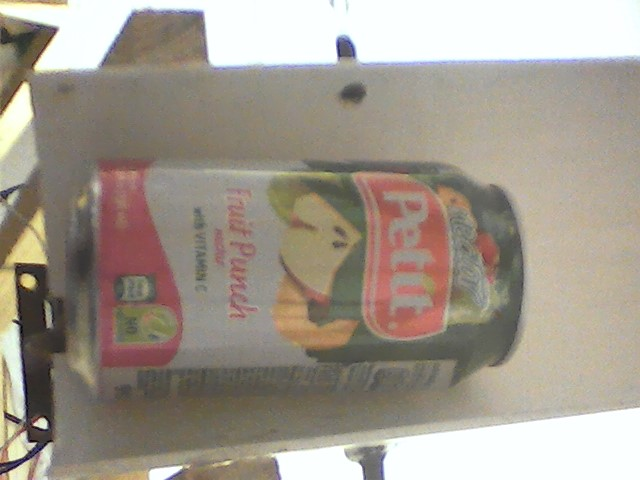lata: (53, 145, 541, 407)
